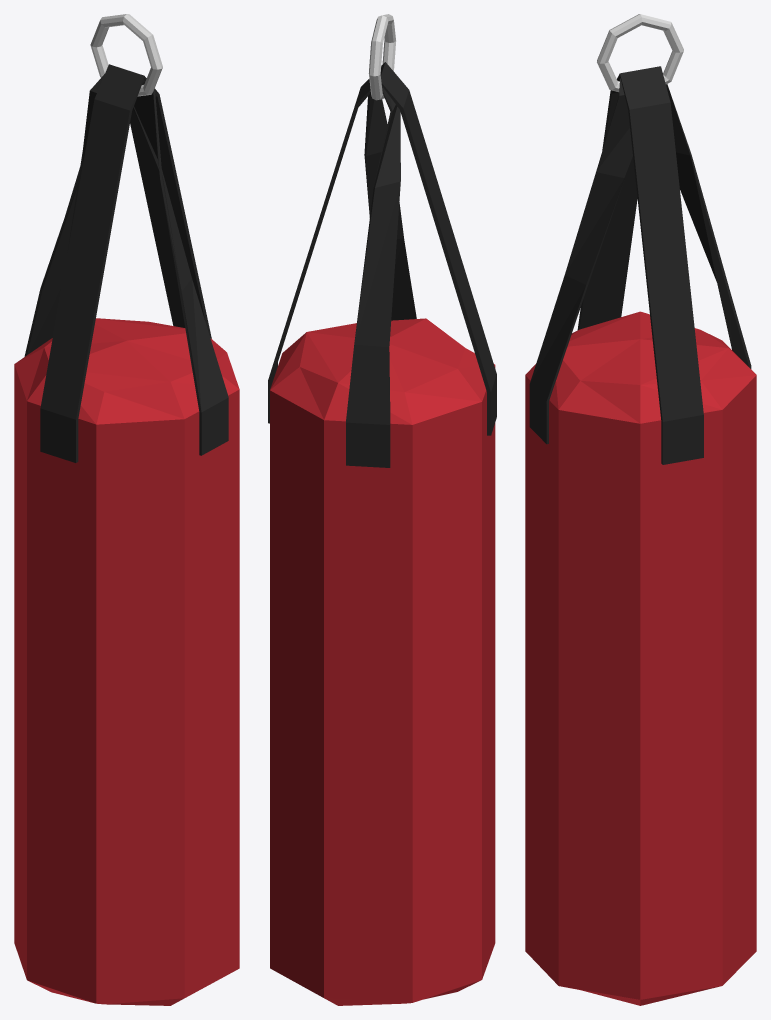
The model's file is PunchBag.glb.
3 views of the same model, side by side, from view 1: azimuth 30°, elevation 25°; view 2: azimuth 150°, elevation 25°; view 3: azimuth 270°, elevation 25° (orthographic).
Parts seen in each view (by area): view 1: Node; view 2: Node; view 3: Node.
Boxes of the visible parts, <box> form: Node: <box>14,14,239,1005</box>; Node: <box>268,14,496,1005</box>; Node: <box>525,14,756,1005</box>.
Bounding box in the file's own units: 1.03 × 4.74 × 1.03.
